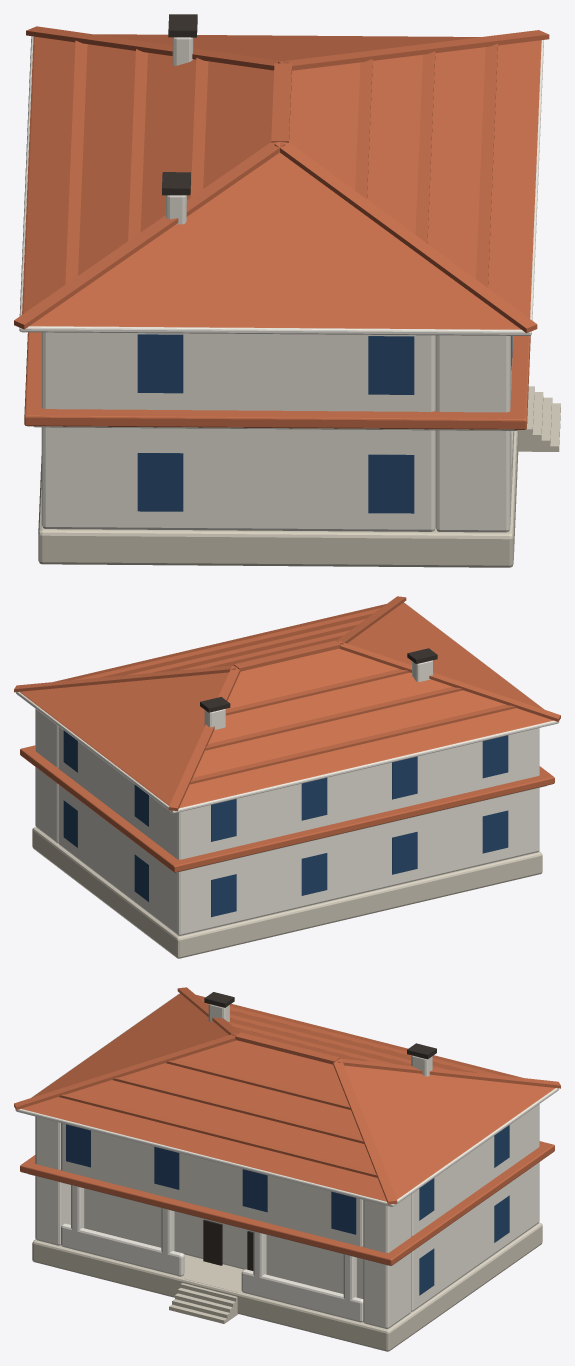
The model's file is 542-presidio-blvd.glb.
3 views of the same model, one above another, from view 1: azimuth 30°, elevation 25°; view 2: azimuth 150°, elevation 25°; view 3: azimuth 270°, elevation 25° (orthographic). The views are drawn at different scales.
Parts seen in each view (by area): view 1: roof, body_main, plinth, return_ssw, pent_roof, fascia, hip_cap_2, hip_cap_3, course_f_80, course_r_80, hip_cap_0, win_lo_ssw_3.4_glass (+12 smaller); view 2: roof, body_main, plinth, pent_roof, fascia, return_nne, course_r_80, course_r_56, hip_cap_3, hip_cap_0, hip_cap_1, course_f_80 (+17 smaller); view 3: roof, body_main, plinth, body_over_porch, pent_roof, return_nne, return_ssw, balustrade_1, balustrade_0, fascia, course_f_80, hip_cap_2 (+22 smaller).
Boxes of the visible parts, bbox=[...] form: roof: bbox=[22, 34, 541, 329]; body_main: bbox=[41, 332, 435, 531]; plinth: bbox=[38, 430, 518, 567]; return_ssw: bbox=[435, 335, 510, 532]; pent_roof: bbox=[24, 332, 530, 429]; fascia: bbox=[19, 36, 543, 335]; hip_cap_2: bbox=[274, 142, 537, 333]; hip_cap_3: bbox=[14, 141, 285, 329]; course_f_80: bbox=[476, 43, 497, 287]; course_r_80: bbox=[65, 40, 87, 284]; hip_cap_0: bbox=[278, 30, 549, 70]; win_lo_ssw_3.4_glass: bbox=[368, 454, 414, 513]; roof: bbox=[19, 602, 553, 808]; body_main: bbox=[58, 726, 539, 935]; plinth: bbox=[32, 827, 542, 958]; pent_roof: bbox=[20, 745, 554, 872]; fascia: bbox=[15, 602, 559, 813]; return_nne: bbox=[35, 709, 58, 843]; course_r_80: bbox=[190, 704, 515, 784]; course_r_56: bbox=[205, 686, 462, 750]; hip_cap_3: bbox=[338, 641, 560, 721]; hip_cap_0: bbox=[14, 665, 236, 692]; hip_cap_1: bbox=[168, 666, 240, 811]; course_f_80: bbox=[73, 608, 380, 680]; roof: bbox=[21, 993, 555, 1201]; body_main: bbox=[84, 1104, 539, 1311]; plinth: bbox=[32, 1222, 542, 1351]; body_over_porch: bbox=[61, 1123, 363, 1246]; pent_roof: bbox=[20, 1141, 554, 1265]; return_nne: bbox=[363, 1194, 411, 1328]; return_ssw: bbox=[35, 1116, 70, 1245]; balustrade_1: bbox=[241, 1269, 363, 1322]; balustrade_0: bbox=[61, 1223, 184, 1276]; fascia: bbox=[15, 993, 559, 1206]; course_f_80: bbox=[59, 1093, 377, 1177]; hip_cap_2: bbox=[14, 1033, 237, 1109].
Bounding box in the file's own units: 23.61 × 10.6 × 25.46.
